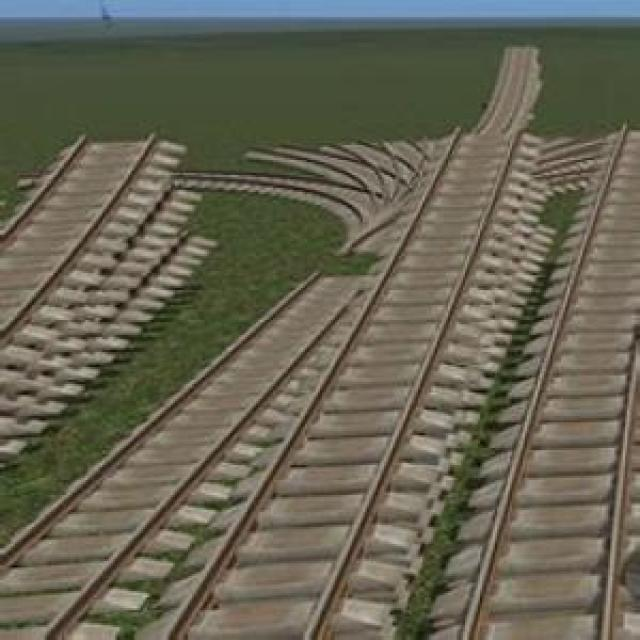rail: (161, 40, 545, 639), (0, 260, 382, 640), (433, 118, 638, 640), (0, 127, 176, 398), (176, 136, 425, 255)
